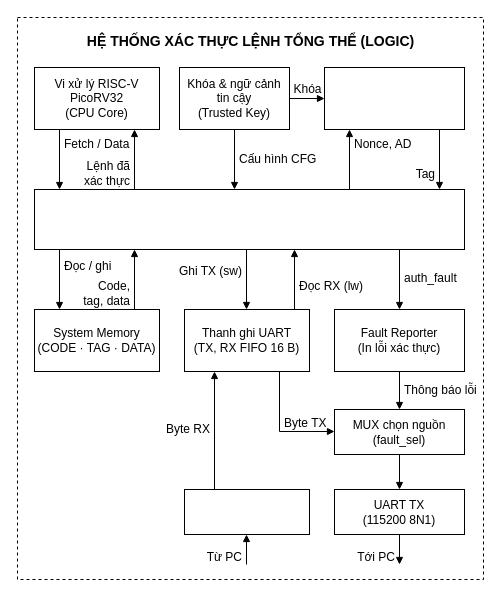
Some shapes in this 501 by 597 pixel diagram are drawn without their labels. Each missing label, with the centre of its shape:
Ascon-128a (Tính tag MAC): (x=394, y=98)
AUTHENTICATED MEMORY (Region check + Tag compare + Verified buffer): (x=249, y=219)
UART RX (115200 8N1): (x=247, y=511)
